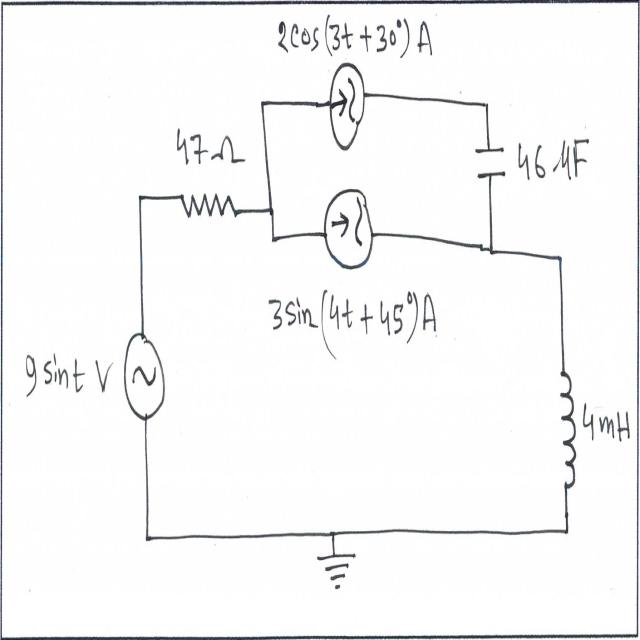ac_current: (118, 324, 171, 422)
capacitor: (470, 138, 512, 197)
current_source: (319, 186, 382, 272), (326, 59, 366, 158)
ground: (315, 550, 361, 594)
inductor: (554, 366, 584, 500)
resistor: (179, 177, 241, 243)
